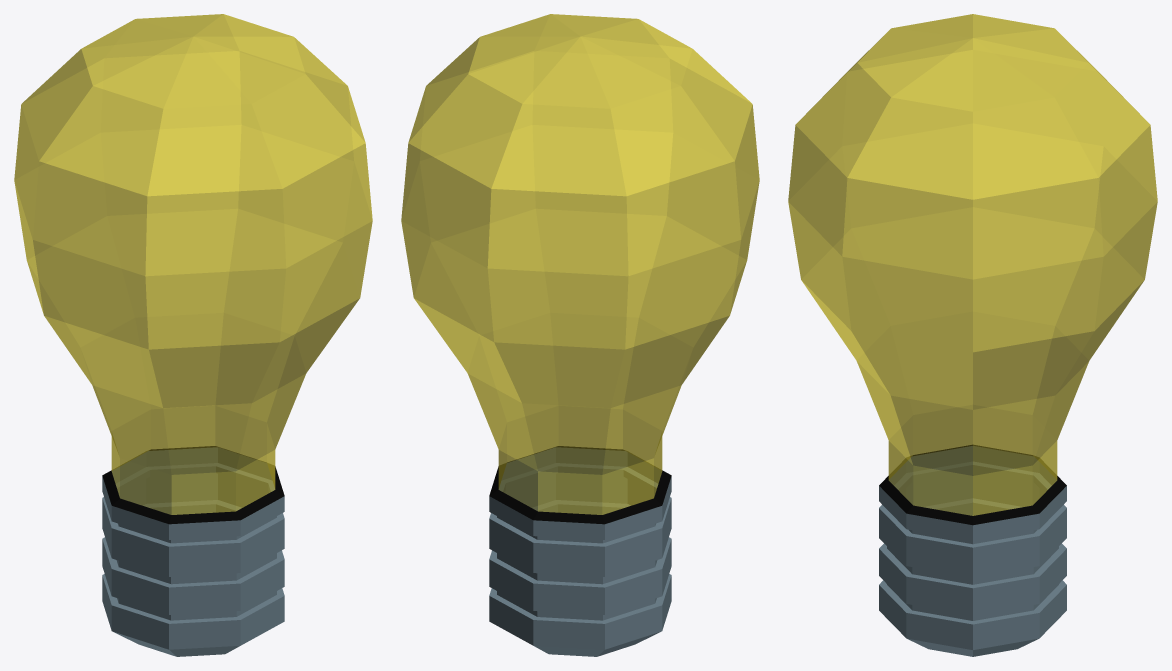
File: Bulb.fbx
3 views of the same model, side by side, from view 1: azimuth 30°, elevation 25°; view 2: azimuth 150°, elevation 25°; view 3: azimuth 270°, elevation 25° (orthographic).
Parts seen in each view (by area): view 1: Mesh; view 2: Mesh; view 3: Mesh.
Part boxes in pixels (<box>): Mesh: <box>14,14,372,656</box>; Mesh: <box>401,14,759,656</box>; Mesh: <box>788,14,1157,656</box>.
Bounding box in the file's own units: 5.49 × 9.99 × 5.49.
